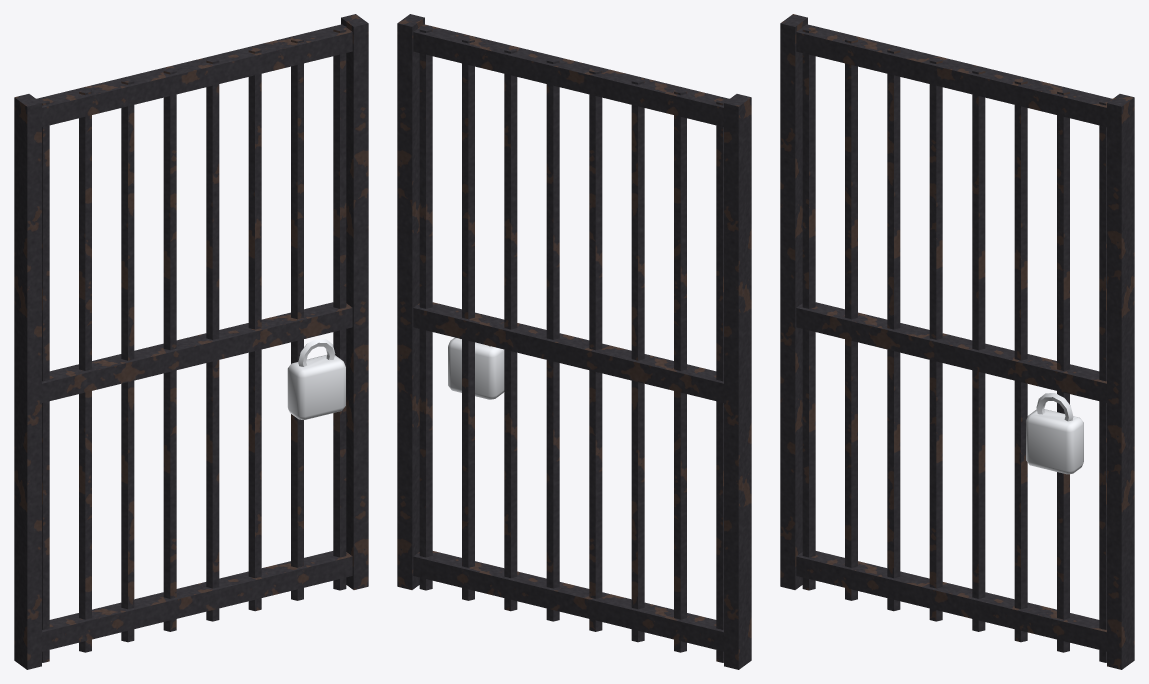
File: dun_cage_silver.glb
The picture shows the model from 3 angles, left to right: view 1: azimuth 30°, elevation 25°; view 2: azimuth 150°, elevation 25°; view 3: azimuth 330°, elevation 25°; orthographic projection.
Visible parts, largest first — view 1: dun_cage_silver_iron_0, dun_cage_silver_silver_0; view 2: dun_cage_silver_iron_0, dun_cage_silver_silver_0; view 3: dun_cage_silver_iron_0, dun_cage_silver_silver_0.
Part boxes in pixels (bbox=[...]): dun_cage_silver_iron_0: bbox=[14, 14, 368, 669]; dun_cage_silver_silver_0: bbox=[287, 338, 345, 419]; dun_cage_silver_iron_0: bbox=[397, 14, 751, 669]; dun_cage_silver_silver_0: bbox=[448, 337, 504, 399]; dun_cage_silver_iron_0: bbox=[780, 14, 1134, 669]; dun_cage_silver_silver_0: bbox=[1026, 393, 1083, 474].
Bounding box in the file's own units: 1.84 × 2.9 × 0.26.
2 materials, 1 textured.
